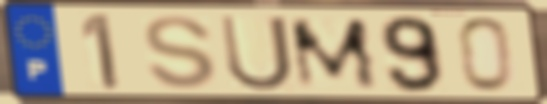0: (453, 14, 520, 95)
1: (79, 10, 123, 93)
9: (375, 13, 447, 96)
M: (285, 15, 383, 92)
S: (140, 13, 219, 91)
U: (216, 12, 297, 93)
